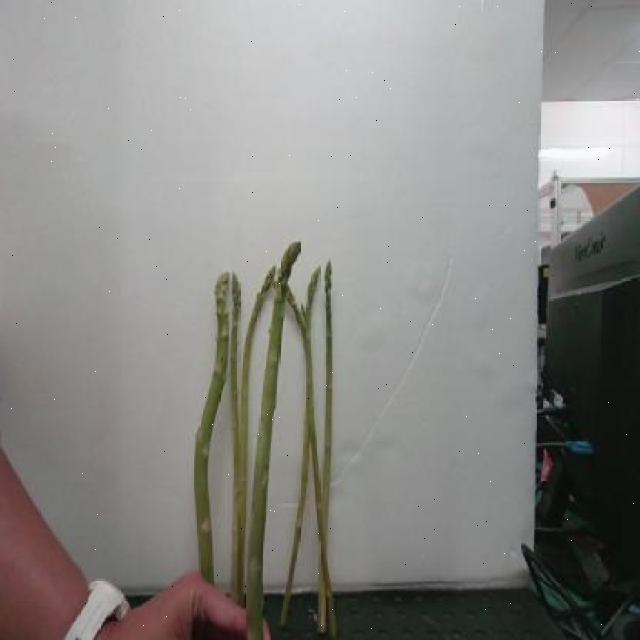aspargus: (239, 234, 309, 640), (193, 270, 236, 590), (320, 252, 336, 637)
